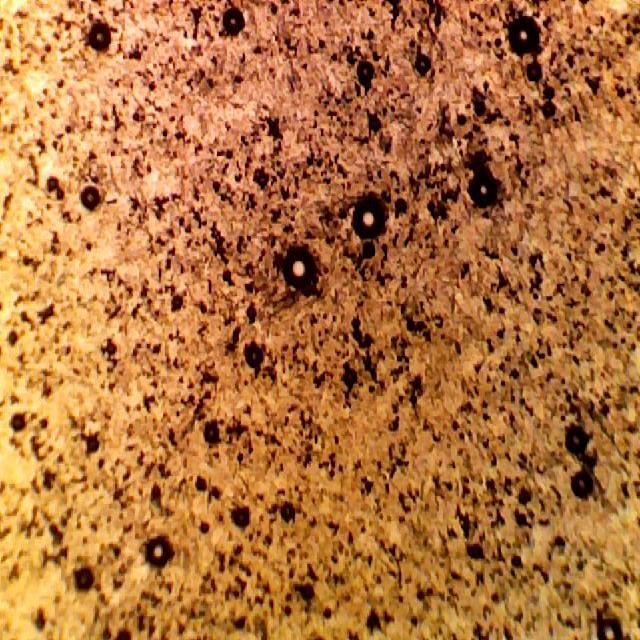microbeads: (350, 194, 390, 242), (282, 244, 318, 292), (506, 15, 542, 59), (466, 170, 498, 210), (145, 534, 175, 570), (563, 424, 589, 456), (88, 22, 112, 52), (570, 470, 594, 500), (222, 8, 246, 36), (79, 185, 103, 213)
